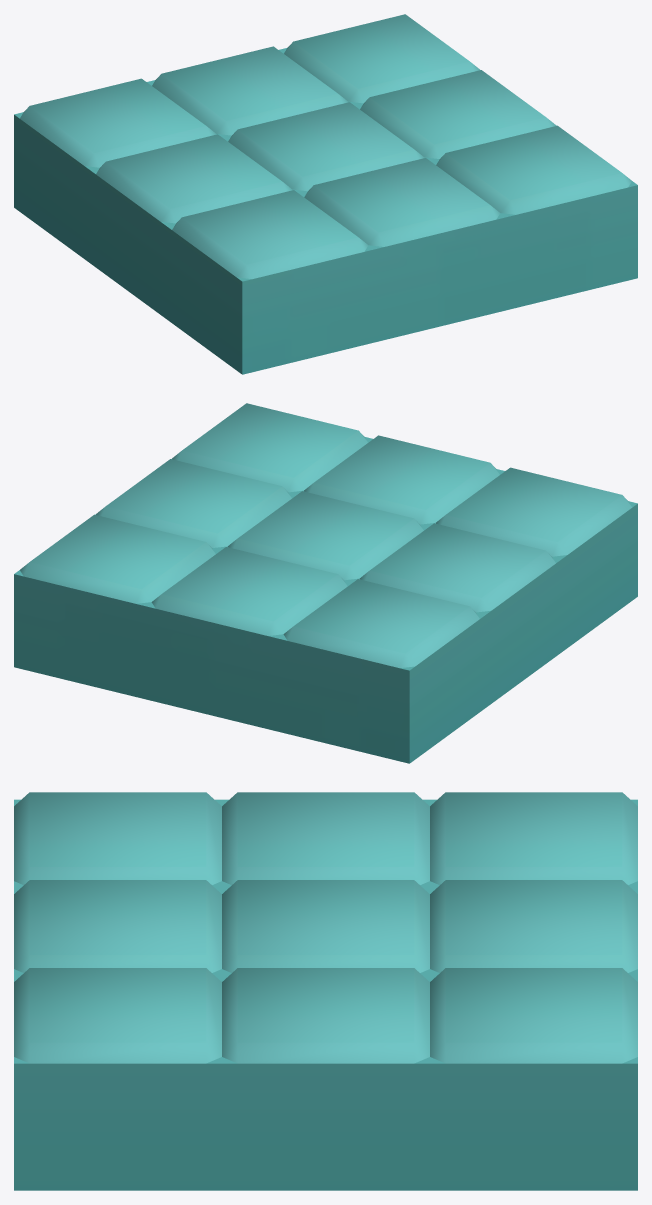
Rendered from floor-tiled.glb.
3 renders of one model, top to bottom at view 1: azimuth 30°, elevation 25°; view 2: azimuth 150°, elevation 25°; view 3: azimuth 270°, elevation 25°, orthographic. The views are drawn at different scales.
Visible parts, largest first — view 1: floor_tiled; view 2: floor_tiled; view 3: floor_tiled.
Part boxes in pixels (bbox=[...]): floor_tiled: bbox=[14, 14, 637, 374]; floor_tiled: bbox=[14, 403, 637, 763]; floor_tiled: bbox=[14, 792, 637, 1190].
Size of the model in its own units: 2 by 0.5 by 2.
Materials: 1 (1 with a texture image).
